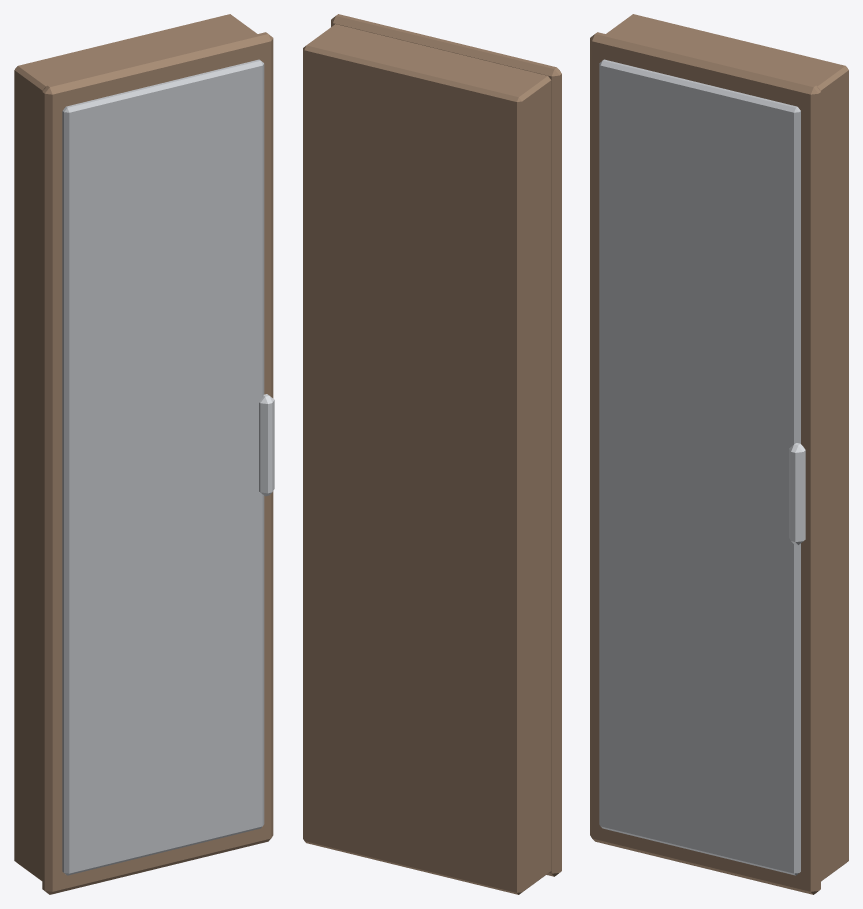
File: MirrorJewelryCabinet.glb
3 views of the same model, side by side, from view 1: azimuth 30°, elevation 25°; view 2: azimuth 150°, elevation 25°; view 3: azimuth 330°, elevation 25° (orthographic).
Visible parts, largest first — view 1: MirrorJewelryCabinet_Door, MirrorJewelryCabinet_Carcass; view 2: MirrorJewelryCabinet_Carcass, MirrorJewelryCabinet_Door; view 3: MirrorJewelryCabinet_Door, MirrorJewelryCabinet_Carcass.
Part boxes in pixels (box(x1,y1,x2,y2)): MirrorJewelryCabinet_Door: box(42, 32, 274, 894); MirrorJewelryCabinet_Carcass: box(14, 14, 257, 880); MirrorJewelryCabinet_Carcass: box(303, 24, 551, 894); MirrorJewelryCabinet_Door: box(331, 14, 561, 876); MirrorJewelryCabinet_Door: box(590, 32, 820, 894); MirrorJewelryCabinet_Carcass: box(606, 14, 848, 881).
Size of the model in its own units: 0.48 by 1.62 by 0.175.
